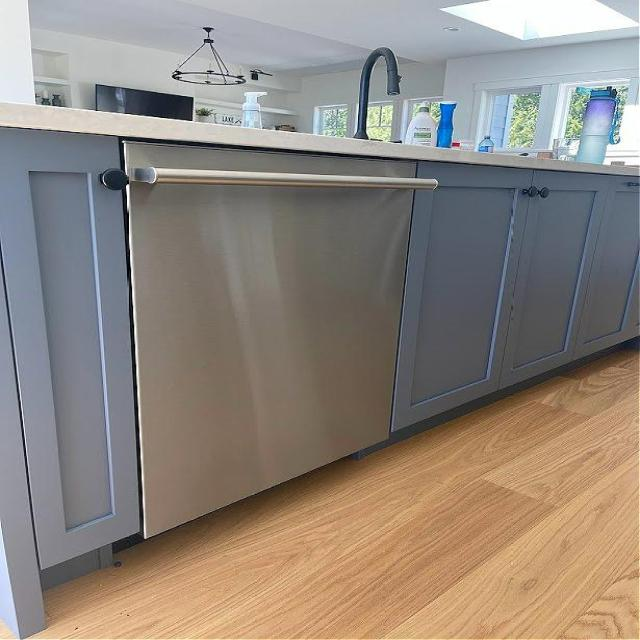dishwasher: (90, 80, 443, 560)
